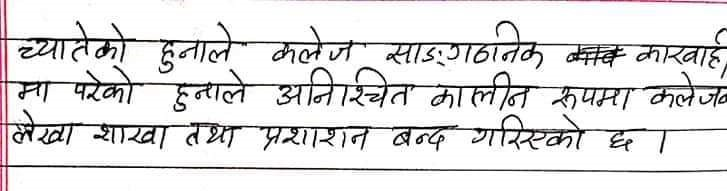text: (386, 21, 548, 70), (12, 20, 138, 66), (270, 68, 414, 108), (468, 113, 588, 156), (150, 20, 241, 73), (256, 118, 374, 157), (424, 72, 539, 112), (265, 21, 364, 65), (630, 27, 727, 71), (171, 72, 253, 112), (645, 70, 724, 111), (548, 78, 635, 115), (90, 117, 174, 153), (6, 111, 84, 149), (68, 67, 140, 104), (384, 119, 459, 154), (182, 116, 246, 156), (600, 123, 648, 158), (12, 74, 54, 106)
